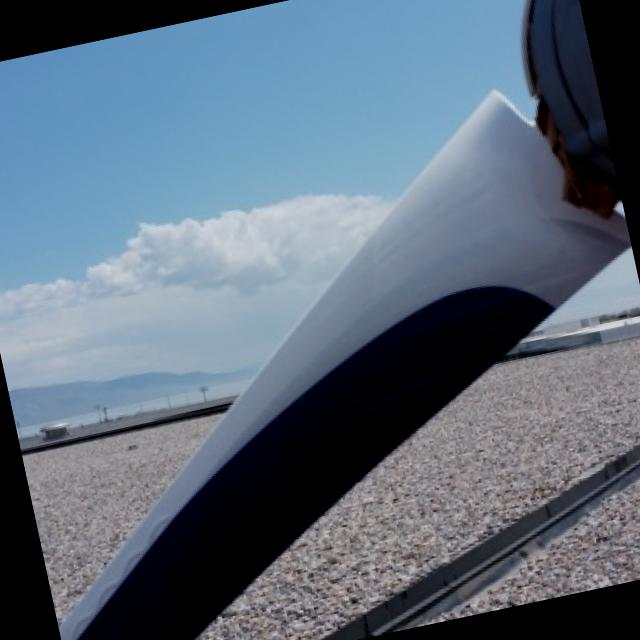healthy: (61, 92, 630, 640)
